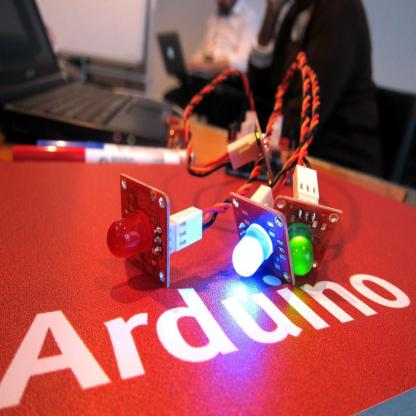board: (0, 0, 181, 149)
